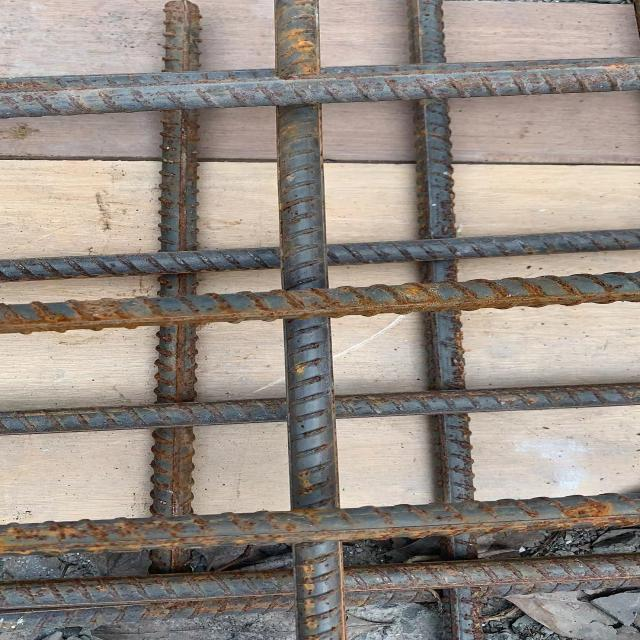ribbed bar: (0, 549, 639, 630), (400, 0, 480, 639), (268, 0, 346, 639), (0, 491, 639, 559), (0, 57, 639, 123), (0, 271, 639, 336), (0, 377, 639, 439), (0, 228, 639, 283), (147, 0, 200, 577)
